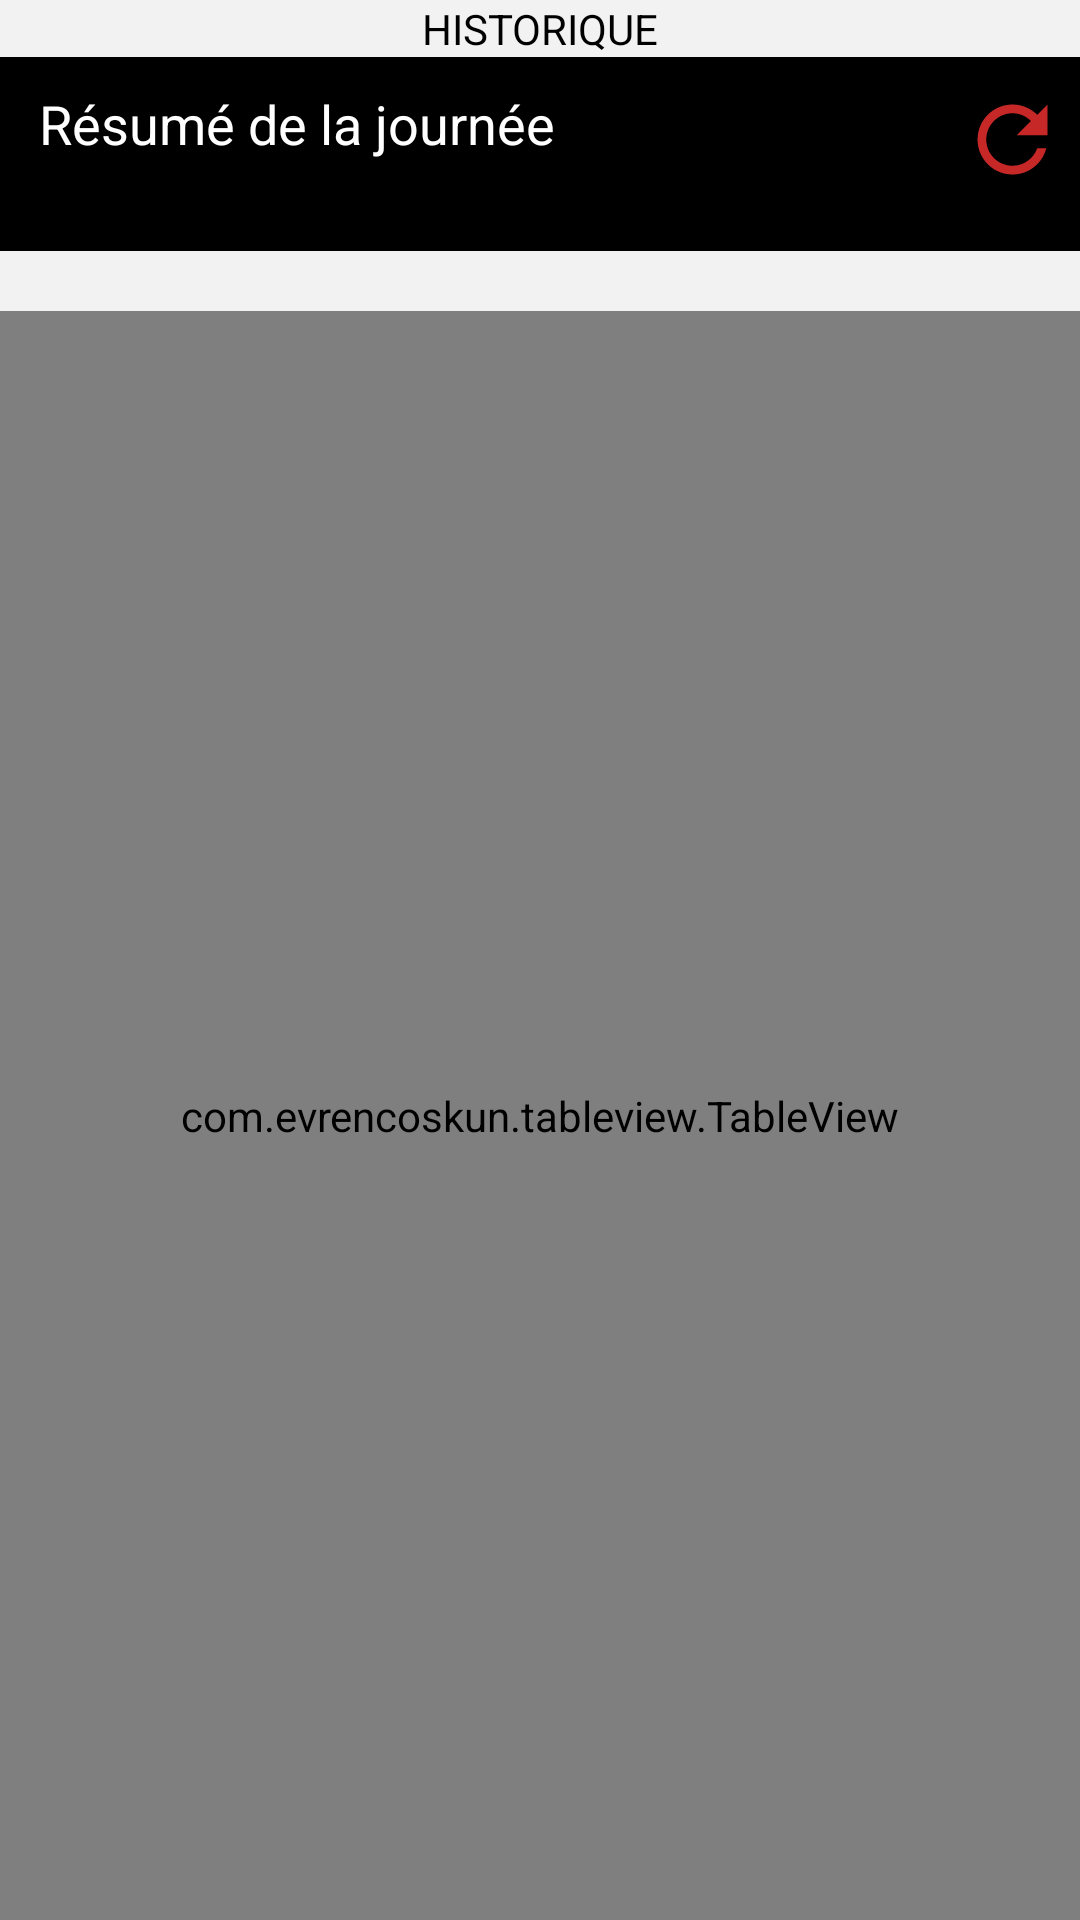

Icon click points for this 1080 × 1920 phone screenshot, format [x,y]:
refresh: [1012,139]
